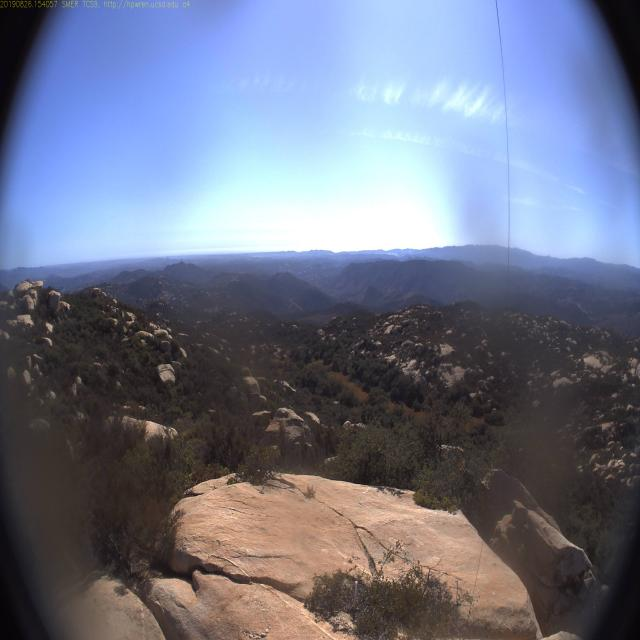smoke: (385, 250, 398, 257)
